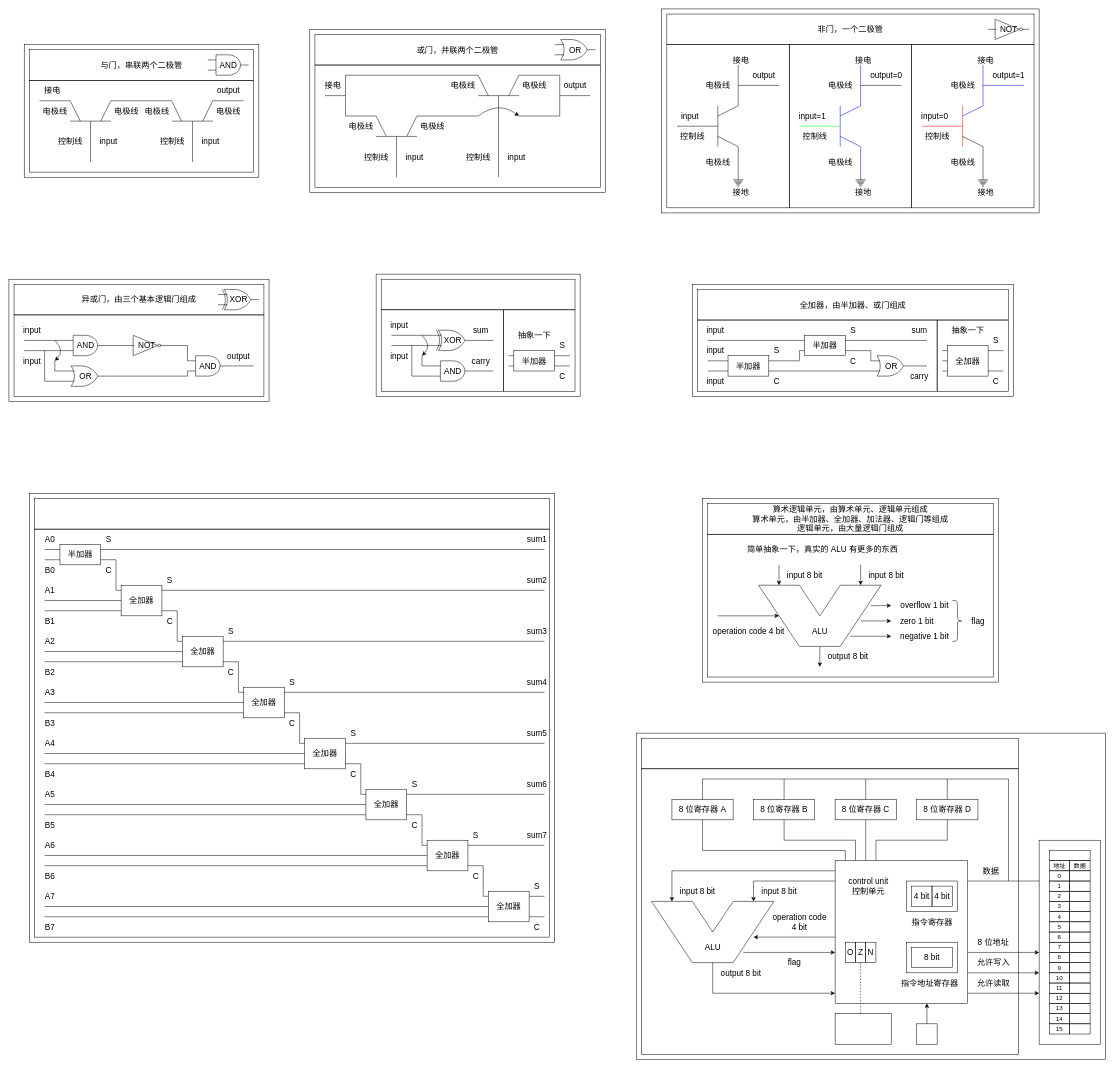
Image size: 1114x1068. Some labels were removed from this diagram. Here are the shapes that lost their labels. From the top down, the centre of each, then its label:
[478,294]: 半加器，由异或门、与门组成
[292,513]: 8 位行波进位加法器，由半加器、全加器组成
[830,753]: 简单的 CPU
[1069,855]: RAM
[863,1028]: overflow 1 bit zero 1 bit negative 1 bit
[926,1033]: 时钟
